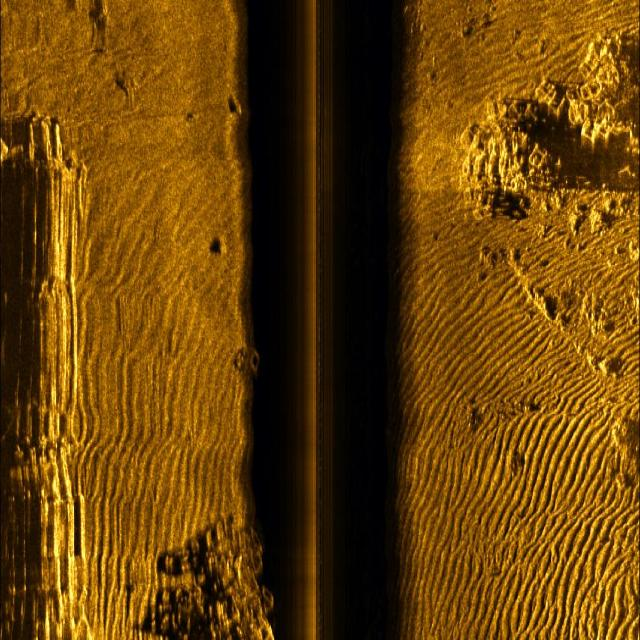artificial reef: (460, 34, 633, 202), (160, 509, 278, 640), (230, 338, 264, 382)
